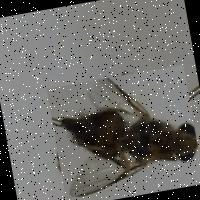Oriental-fruit-fly: (44, 63, 200, 200)
